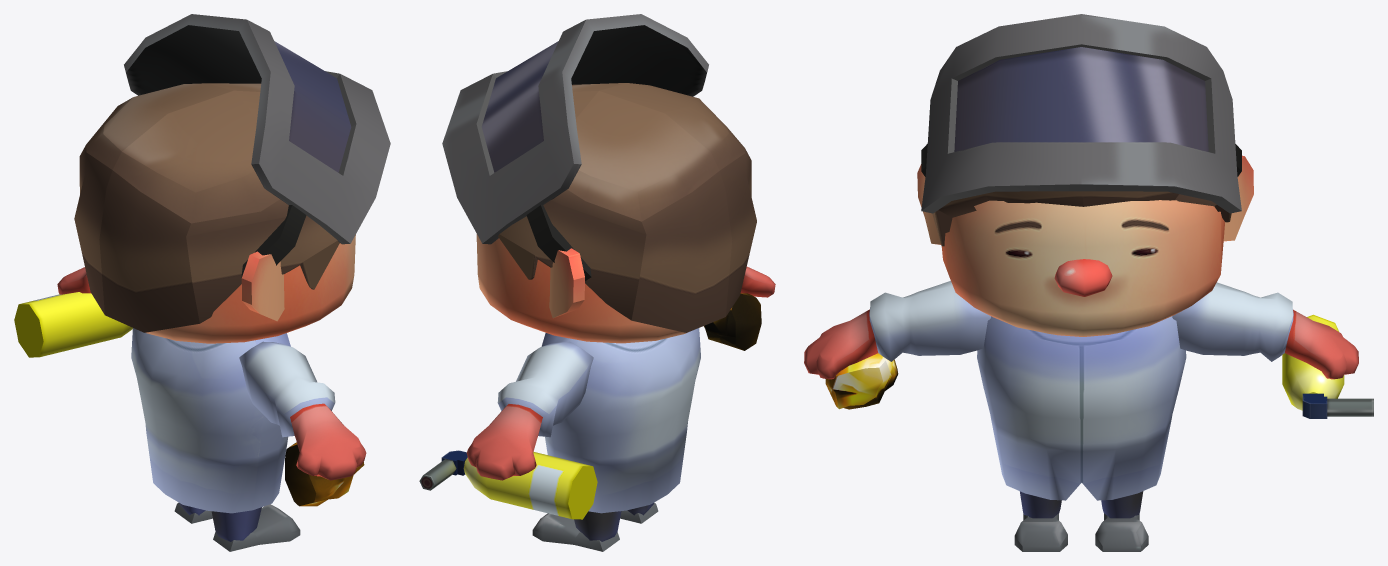
Rendered from Char_Cre_AR_04.fbx.
3 renders of one model, left to right at view 1: azimuth 30°, elevation 25°; view 2: azimuth 150°, elevation 25°; view 3: azimuth 270°, elevation 25°, orthographic. The views are drawn at different scales.
Parts seen in each view (by area): view 1: Hair_Metallurgist, Mask_Metallurgist, Body_Metallurgist, R_Arm_Metallurgist, Head_Metallurgist, Fire_Metallurgist, R_Leg_Metallurgist, R_Ear_Metallurgist, Gold_Metallurgist, L_Arm_Metallurgist, L_Leg_Metallurgist; view 2: Hair_Metallurgist, Mask_Metallurgist, Body_Metallurgist, L_Arm_Metallurgist, Head_Metallurgist, Fire_Metallurgist, L_Leg_Metallurgist, Gold_Metallurgist, L_Ear_Metallurgist, R_Arm_Metallurgist, R_Leg_Metallurgist; view 3: Mask_Metallurgist, Head_Metallurgist, Body_Metallurgist, R_Arm_Metallurgist, L_Arm_Metallurgist, Hair_Metallurgist, Fire_Metallurgist, Gold_Metallurgist, L_Leg_Metallurgist, R_Leg_Metallurgist, Nose_Metallurgist, L_Ear_Metallurgist.
Boxes of the visible parts, x1,y1,x2,y2 form: Hair_Metallurgist: [74, 83, 339, 332]; Mask_Metallurgist: [124, 14, 390, 277]; Body_Metallurgist: [131, 328, 290, 513]; R_Arm_Metallurgist: [239, 341, 366, 480]; Head_Metallurgist: [146, 234, 355, 343]; Fire_Metallurgist: [14, 292, 132, 357]; R_Leg_Metallurgist: [211, 504, 300, 551]; R_Ear_Metallurgist: [241, 251, 284, 321]; Gold_Metallurgist: [285, 442, 364, 506]; L_Arm_Metallurgist: [57, 267, 90, 294]; L_Leg_Metallurgist: [174, 502, 212, 523]; Hair_Metallurgist: [498, 83, 756, 332]; Mask_Metallurgist: [442, 14, 708, 280]; Body_Metallurgist: [541, 328, 700, 513]; L_Arm_Metallurgist: [466, 341, 593, 480]; Head_Metallurgist: [476, 234, 687, 343]; Fire_Metallurgist: [419, 450, 597, 519]; L_Leg_Metallurgist: [532, 511, 621, 551]; Gold_Metallurgist: [704, 293, 761, 350]; L_Ear_Metallurgist: [549, 248, 584, 318]; R_Arm_Metallurgist: [740, 266, 775, 297]; R_Leg_Metallurgist: [620, 502, 658, 523]; Mask_Metallurgist: [921, 14, 1241, 213]; Head_Metallurgist: [941, 200, 1224, 336]; Body_Metallurgist: [977, 316, 1186, 500]; R_Arm_Metallurgist: [804, 281, 990, 379]; L_Arm_Metallurgist: [1172, 282, 1358, 379]; Hair_Metallurgist: [932, 191, 1231, 246]; Fire_Metallurgist: [1282, 314, 1373, 418]; Gold_Metallurgist: [825, 353, 898, 409]; L_Leg_Metallurgist: [1095, 491, 1148, 551]; R_Leg_Metallurgist: [1014, 491, 1067, 551]; Nose_Metallurgist: [1054, 259, 1112, 296]; L_Ear_Metallurgist: [1223, 155, 1253, 241].
Bounding box in the file's own units: 4.52 × 7.94 × 7.81.
